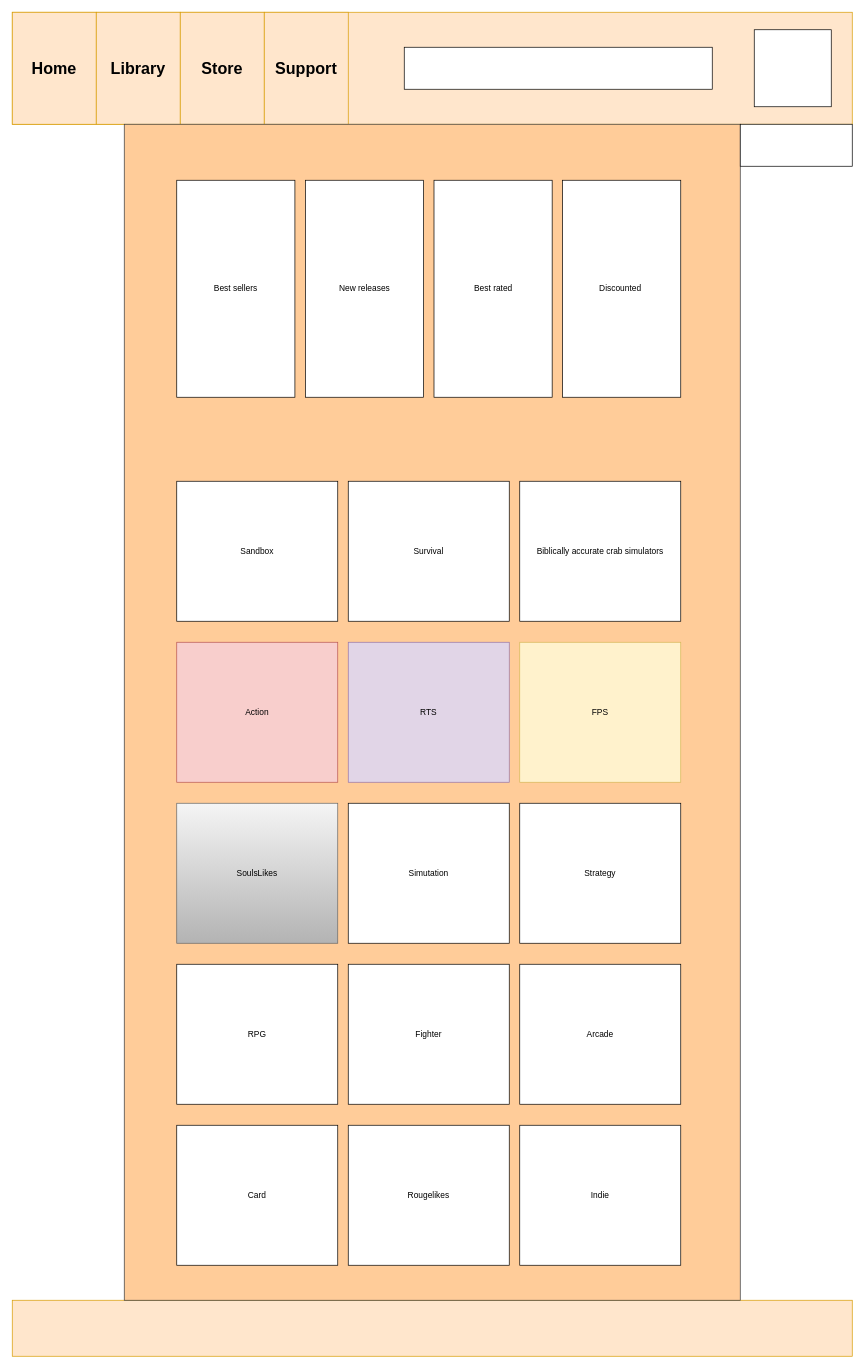
Some shapes in this 865 by 1369 pixel diagram are drawn without their labels. The shapes that lost their labels are listed below. From the top down, each one's centre as x and y in pixels, then its label:
point 558,68: TITLE
point 792,68: LOGO
point 796,145: Search window
point 432,1328: Fotter
